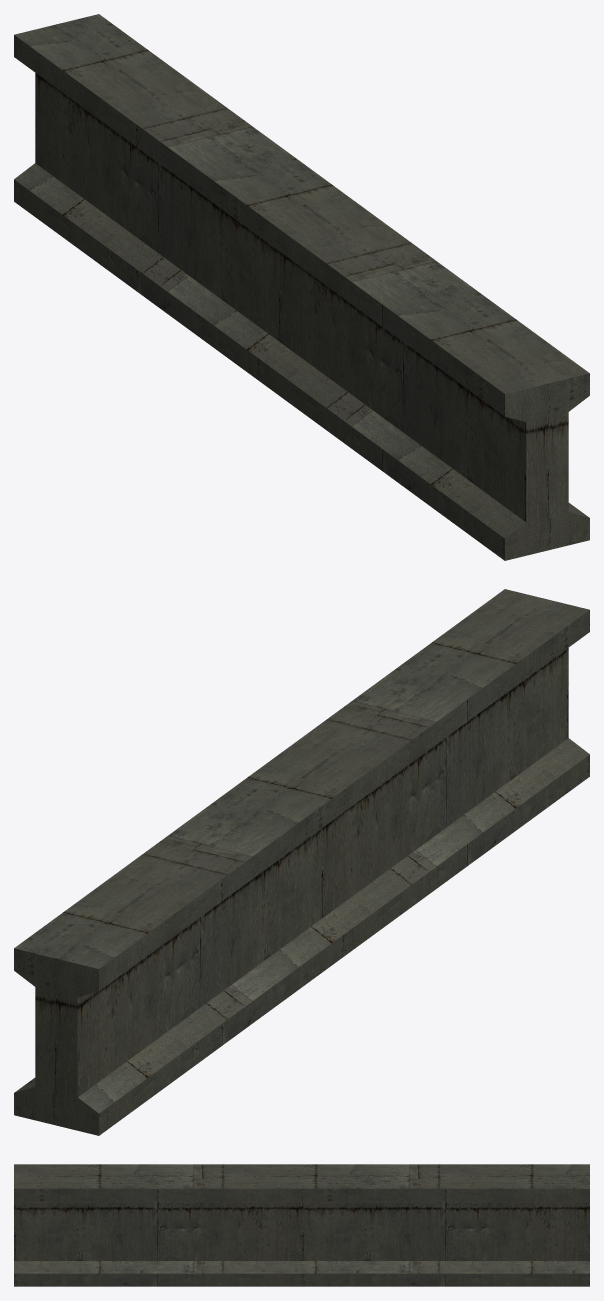
Rendered from seam_hr_1.obj.
The picture shows the model from 3 angles, top to bottom: view 1: azimuth 30°, elevation 25°; view 2: azimuth 150°, elevation 25°; view 3: azimuth 270°, elevation 25°; orthographic projection. The views are drawn at different scales.
Visible parts, largest first — view 1: seam_hr_1; view 2: seam_hr_1; view 3: seam_hr_1.
Part boxes in pixels (x1=…): seam_hr_1: x1=14, y1=14, x2=589, y2=560; seam_hr_1: x1=14, y1=589, x2=589, y2=1135; seam_hr_1: x1=14, y1=1164, x2=589, y2=1286.
Bounding box in the file's own units: 0.8 × 1.5 × 8.
